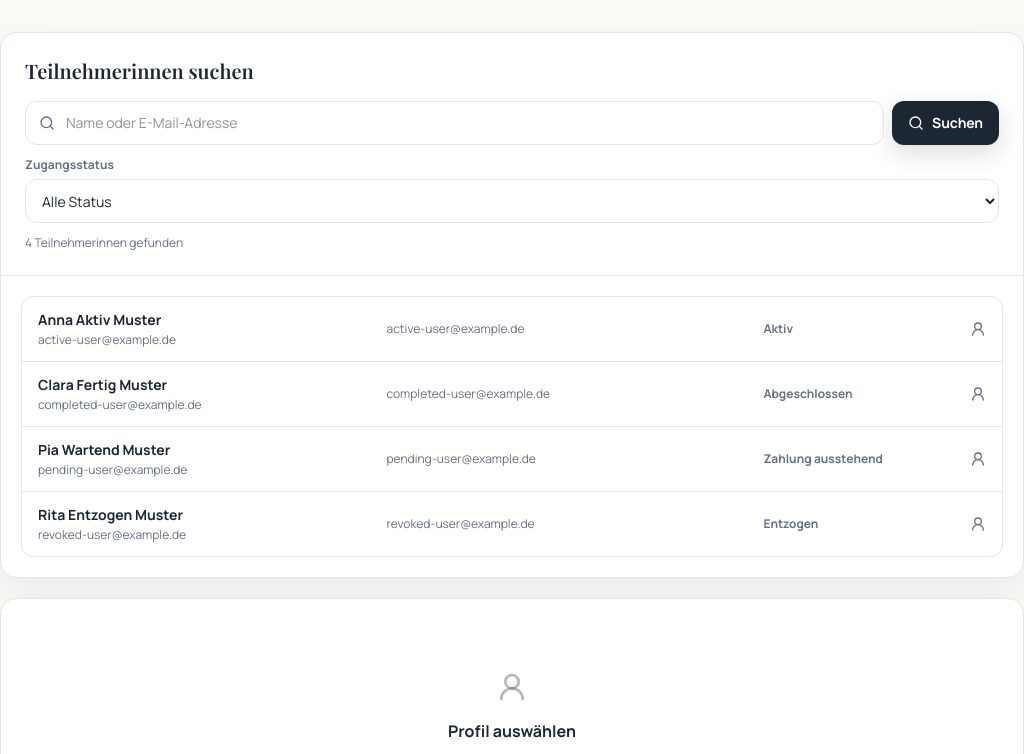
Scenario: Admin-Teilnehmerverwaltung › bildet die erlaubten Zugangsaktionen für aktive, abgeschlossene und wartende Zugänge ab
Expected: the text "Anna Aktiv Muster" is shown, left=38, top=310, right=161, bottom=329
Click the button "Anna Aktiv Muster" at (512, 329), box left=22, top=297, right=1002, bottom=361
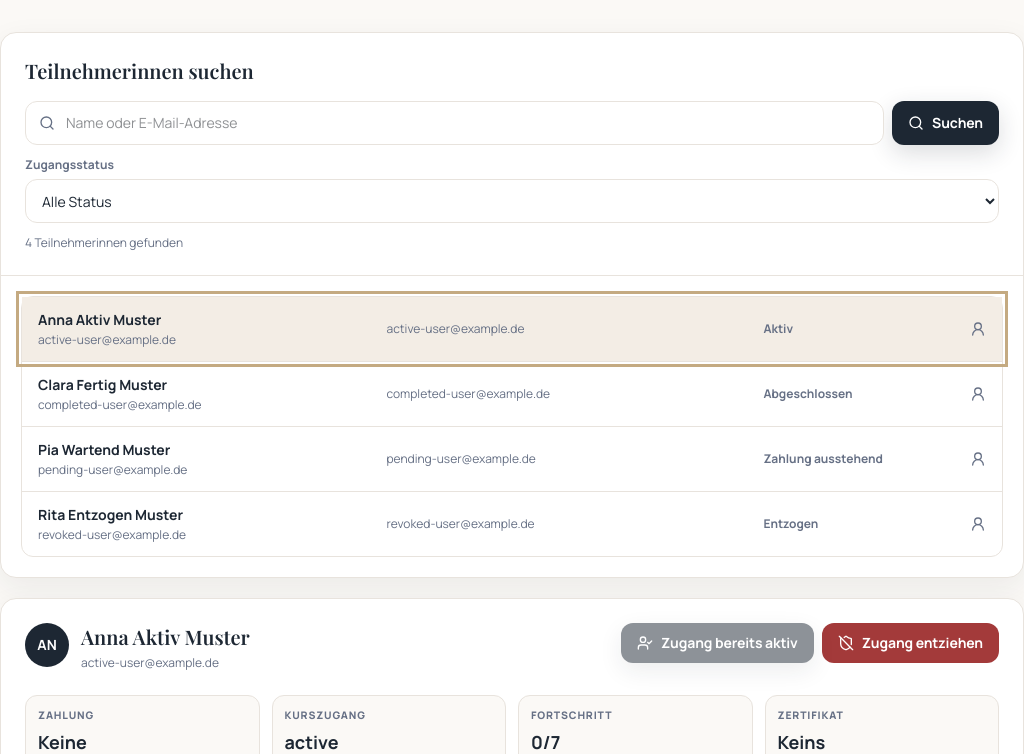
Expected: the button "Zugang bereits aktiv" is disabled, left=621, top=623, right=814, bottom=663
Expected: the button "Zugang entziehen" is enabled, left=822, top=623, right=999, bottom=663
Click the button "Clara Fertig Muster" at (512, 394), box left=22, top=362, right=1002, bottom=426
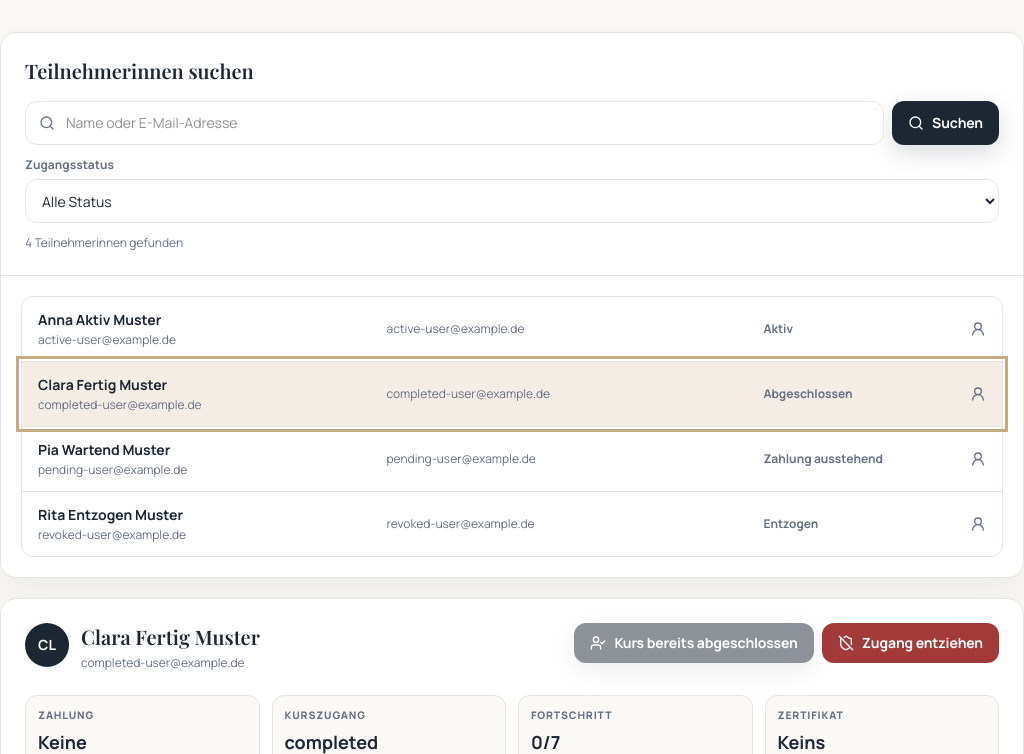
Expected: the button "Kurs bereits abgeschlossen" is disabled, left=574, top=623, right=814, bottom=663
Expected: the button "Zugang entziehen" is enabled, left=822, top=623, right=999, bottom=663
Click the button "Pia Wartend Muster" at (512, 459), box left=22, top=427, right=1002, bottom=491
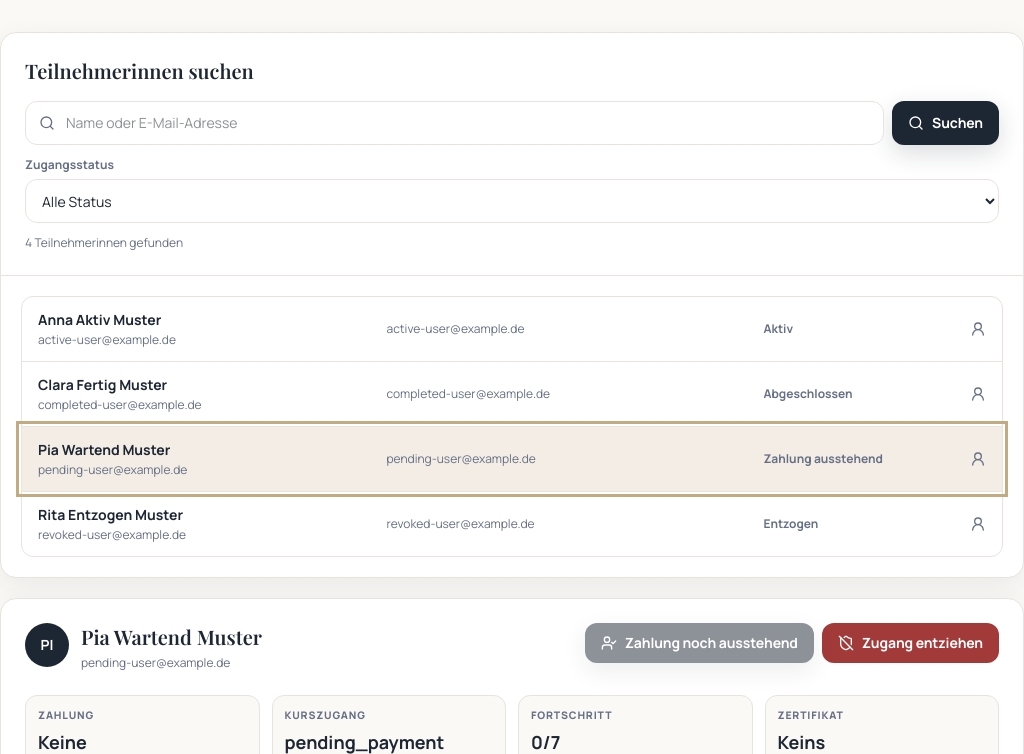
Expected: the button "Zahlung noch ausstehend" is disabled, left=585, top=623, right=814, bottom=663
Expected: the button "Zugang entziehen" is enabled, left=822, top=623, right=999, bottom=663
Click the button "Rita Entzogen Muster" at (512, 524), box left=22, top=492, right=1002, bottom=556
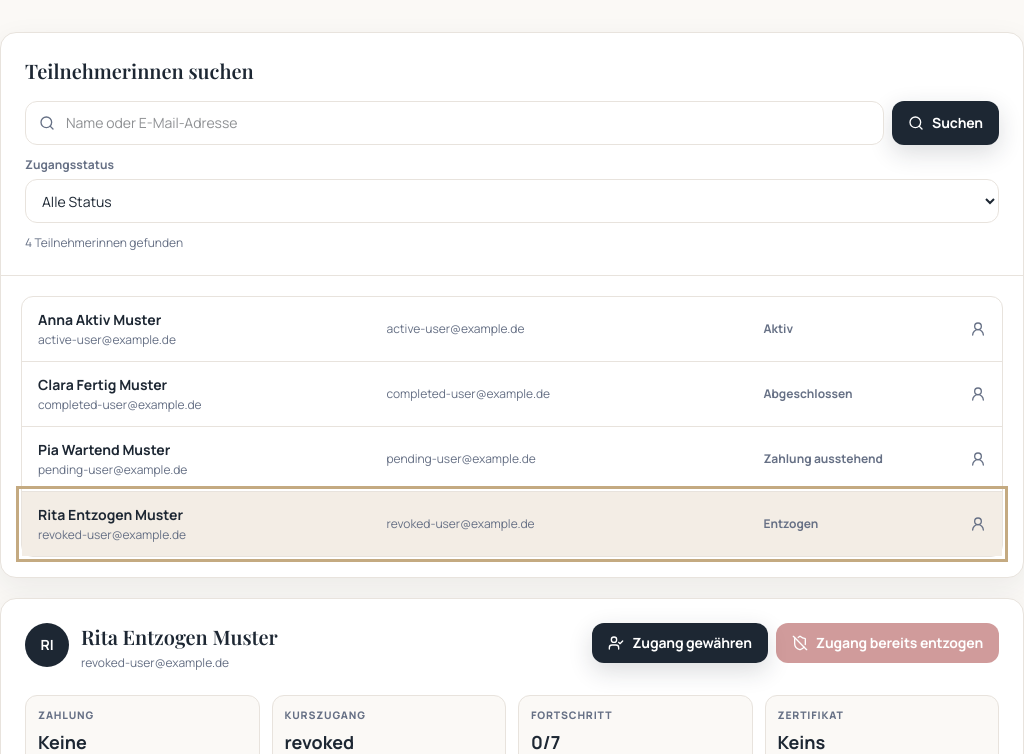
Expected: the button "Zugang gewähren" is enabled, left=592, top=623, right=768, bottom=663
Expected: the button "Zugang bereits entzogen" is disabled, left=776, top=623, right=999, bottom=663
